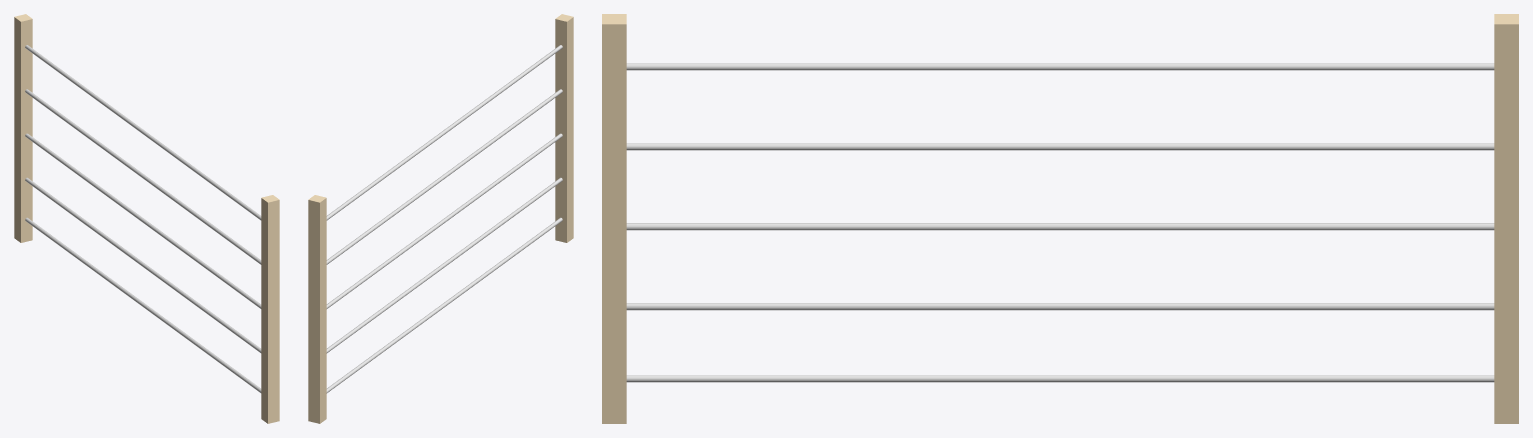
Rendered from LaserFence.fbx.
3 renders of one model, left to right at view 1: azimuth 30°, elevation 25°; view 2: azimuth 150°, elevation 25°; view 3: azimuth 270°, elevation 25°, orthographic. The views are drawn at different scales.
Parts seen in each view (by area): view 1: Fence Wall 1, Fence Wall 1.001, Cylinder.002, Cylinder.003, Cylinder, Cylinder.001, Cylinder.004; view 2: Fence Wall 1.001, Fence Wall 1, Cylinder.002, Cylinder.003, Cylinder, Cylinder.001, Cylinder.004; view 3: Fence Wall 1, Fence Wall 1.001, Cylinder, Cylinder.001, Cylinder.002, Cylinder.004, Cylinder.003.
Part boxes in pixels (bbox=[...]): Fence Wall 1: bbox=[261, 195, 279, 423]; Fence Wall 1.001: bbox=[14, 14, 32, 242]; Cylinder.002: bbox=[25, 133, 261, 308]; Cylinder.003: bbox=[25, 89, 261, 264]; Cylinder: bbox=[25, 217, 261, 393]; Cylinder.001: bbox=[25, 177, 261, 353]; Cylinder.004: bbox=[25, 45, 261, 220]; Fence Wall 1.001: bbox=[308, 195, 326, 423]; Fence Wall 1: bbox=[555, 14, 573, 242]; Cylinder.002: bbox=[326, 133, 562, 308]; Cylinder.003: bbox=[326, 89, 562, 264]; Cylinder: bbox=[326, 217, 562, 393]; Cylinder.001: bbox=[326, 177, 562, 353]; Cylinder.004: bbox=[326, 45, 562, 220]; Fence Wall 1: bbox=[602, 14, 626, 423]; Fence Wall 1.001: bbox=[1494, 14, 1518, 423]; Cylinder: bbox=[626, 375, 1494, 382]; Cylinder.001: bbox=[626, 303, 1494, 310]; Cylinder.002: bbox=[626, 223, 1494, 230]; Cylinder.004: bbox=[626, 63, 1494, 70]; Cylinder.003: bbox=[626, 143, 1494, 150].
Bounding box in the file's own units: 27.9 × 500 × 1040.
